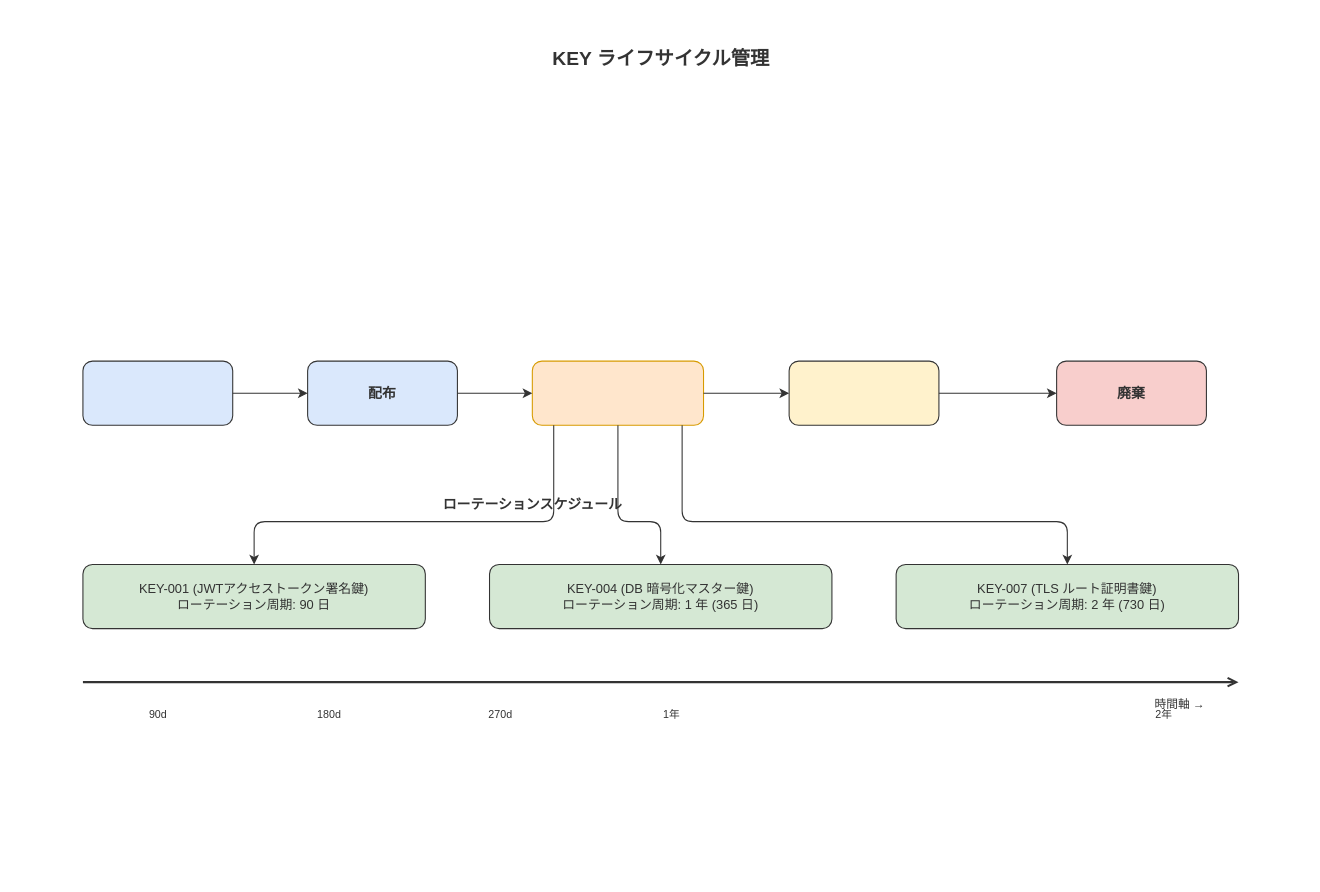
Image size: 1320x892. Some labels were removed from this diagram. Here are the shapes that lost their labels. From the top down, the box of each, then its label:
(82, 360, 233, 425): KEY 生成
(531, 360, 704, 425): ローテーション
(788, 360, 939, 425): 失効
